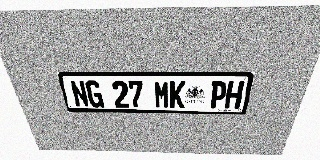2: (112, 80, 129, 108)
7: (127, 81, 144, 108)
G: (84, 80, 104, 107)
H: (224, 81, 245, 109)
K: (170, 81, 186, 108)
M: (154, 81, 169, 108)
N: (69, 80, 90, 107)
P: (208, 81, 228, 109)
